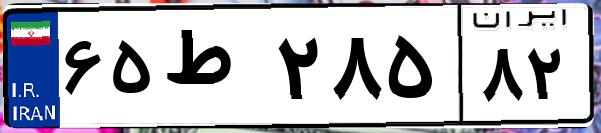2: (270, 28, 330, 110), (525, 38, 570, 115)
5: (385, 28, 445, 110), (110, 28, 158, 98)
6: (57, 26, 110, 100)
8: (330, 28, 385, 110), (475, 38, 525, 113)
ط: (158, 20, 270, 120)
